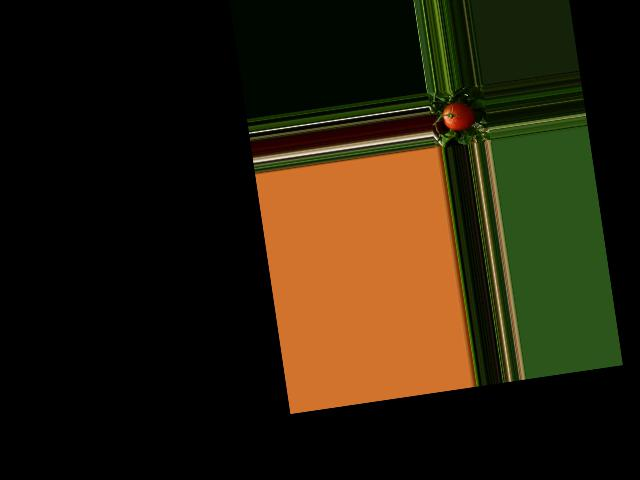tomato: (441, 100, 475, 132)
